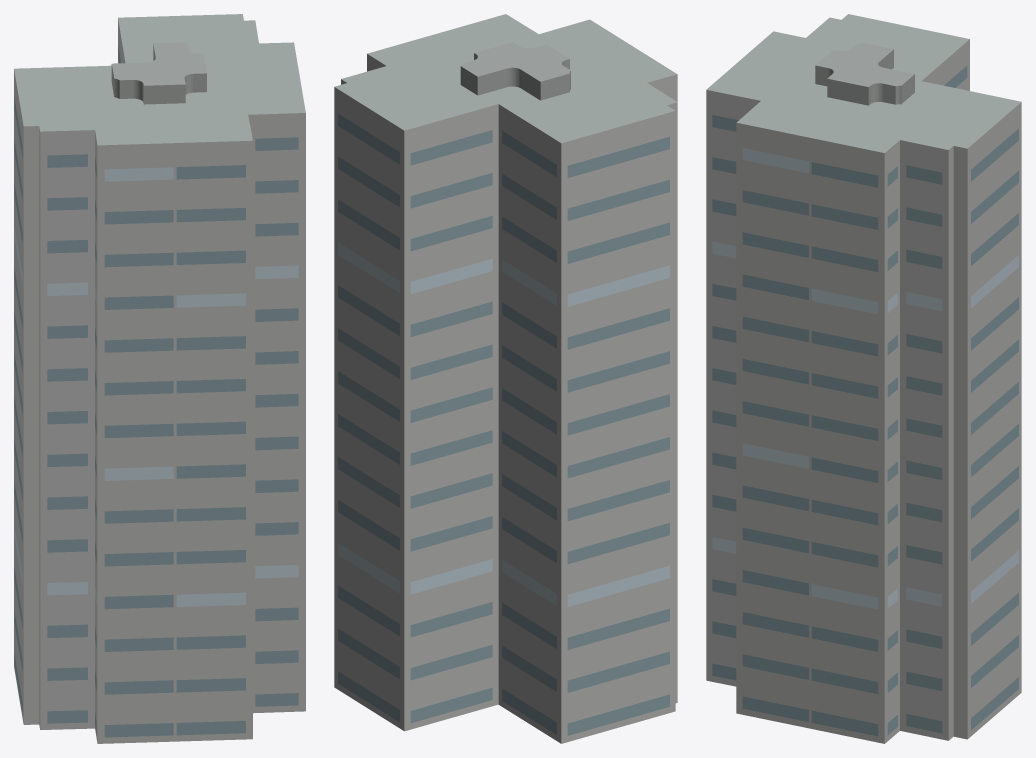
Rendered from fallback-banpo-xi-111.glb.
3 renders of one model, left to right at view 1: azimuth 30°, elevation 25°; view 2: azimuth 150°, elevation 25°; view 3: azimuth 270°, elevation 25°, orthographic.
Visible parts, largest first — view 1: fallback-banpo-xi-111; view 2: fallback-banpo-xi-111; view 3: fallback-banpo-xi-111.
Boxes of the visible parts, bbox=[...] form: fallback-banpo-xi-111: bbox=[14, 14, 305, 743]; fallback-banpo-xi-111: bbox=[334, 14, 677, 743]; fallback-banpo-xi-111: bbox=[706, 14, 1021, 743].
Size of the model in its own units: 38.7 by 79 by 37.08.
